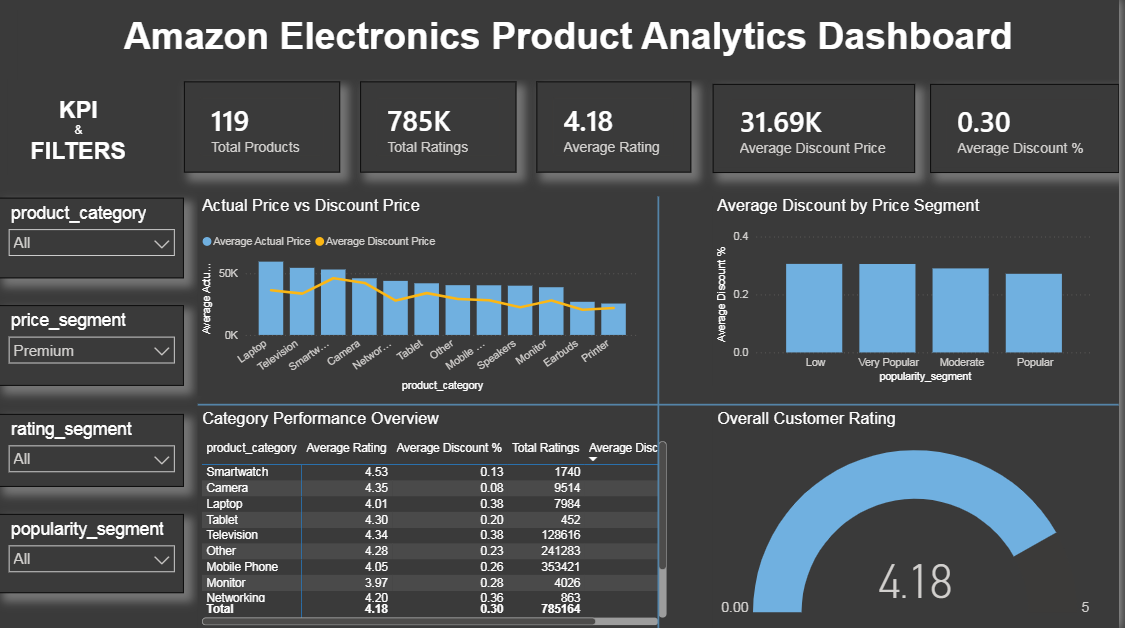

This screenshot's page, from the dashboard's own definition file:
{"tool":"powerbi","page":{"name":"Page 1","canvas":[1280,720],"ordinal":0},"visuals":[{"type":"cardVisual","fields":{"Data":["electronics_final.Total Products"]},"box":[211.5,94.6,178.1,104.3],"z":0},{"type":"cardVisual","fields":{"Data":["electronics_final.Total Ratings"]},"box":[413.2,94.6,178.1,104.3],"z":1000},{"type":"cardVisual","fields":{"Data":["electronics_final.Average Rating"]},"box":[615,94.6,176.7,104.3],"z":2000},{"type":"cardVisual","fields":{"Data":["electronics_final.Average Discount Price"]},"box":[815.3,97.4,231,101.6],"z":3000},{"type":"cardVisual","fields":{"Data":["electronics_final.Average Discount %"]},"box":[1064.3,97.4,215.7,101.6],"z":4000},{"type":"slicer","fields":{"Values":["electronics_final.product_category"]},"box":[0,226.8,211.5,91.8],"z":5000},{"type":"slicer","fields":{"Values":["electronics_final.price_segment"]},"box":[0,350.6,211.5,91.8],"z":6000},{"type":"slicer","fields":{"Values":["electronics_final.rating_segment"]},"box":[0,474.4,211.5,83.5],"z":7000},{"type":"slicer","fields":{"Values":["electronics_final.popularity_segment"]},"box":[0,588.5,211.5,90.4],"z":8000},{"type":"textbox","box":[9.7,91.8,161.4,109.9],"z":9000},{"type":"clusteredColumnChart","title":"Average Discount by Price Segment","fields":{"Category":["electronics_final.popularity_segment"],"Y":["electronics_final.Average Discount %"]},"box":[815.1,226.4,440.5,216.8],"z":10000},{"type":"lineStackedColumnComboChart","title":"Actual Price vs Discount Price","fields":{"Category":["electronics_final.product_category"],"Y":["electronics_final.Average Actual Price"],"Y2":["electronics_final.Average Discount Price"]},"box":[227.8,226.4,509.1,227.8],"z":11000},{"type":"pivotTable","title":"Category Performance Overview","fields":{"Rows":["electronics_final.product_category"],"Values":["electronics_final.Average Rating","electronics_final.Average Discount %","electronics_final.Total Ratings","electronics_final.Average Discount Price"]},"box":[227.8,467.9,540.7,252.5],"z":12000},{"type":"textbox","box":[22,12.3,1258.3,79.6],"z":13000},{"type":"gauge","title":"Overall Customer Rating","fields":{"Y":["electronics_final.Average Rating"],"MaxValue":["electronics_final.Maximum Rating"]},"box":[815.1,467.9,440.5,252.5],"z":14000},{"type":"shape","box":[227.8,308.7,1052.5,310.1],"z":15000},{"type":"shape","box":[269,226.4,1011.3,494],"z":16000}]}

Visuals, with their boxes in screenshot pixels (x1, y1, x2, y2), scaled from the page's 1280x720 canvas onto the 1125x628 screenshot:
cardVisual - electronics_final.Total Products: 186 83 342 173
cardVisual - electronics_final.Total Ratings: 363 83 520 173
cardVisual - electronics_final.Average Rating: 541 83 696 173
cardVisual - electronics_final.Average Discount Price: 717 85 920 174
cardVisual - electronics_final.Average Discount %: 935 85 1124 174
slicer - electronics_final.product_category: 0 198 186 278
slicer - electronics_final.price_segment: 0 306 186 386
slicer - electronics_final.rating_segment: 0 414 186 487
slicer - electronics_final.popularity_segment: 0 513 186 592
textbox: 9 80 150 176
"Average Discount by Price Segment" clusteredColumnChart: 716 197 1104 387
"Actual Price vs Discount Price" lineStackedColumnComboChart: 200 197 648 396
"Category Performance Overview" pivotTable: 200 408 675 627
textbox: 19 11 1124 80
"Overall Customer Rating" gauge: 716 408 1104 627
shape: 200 269 1124 540
shape: 236 197 1124 627
